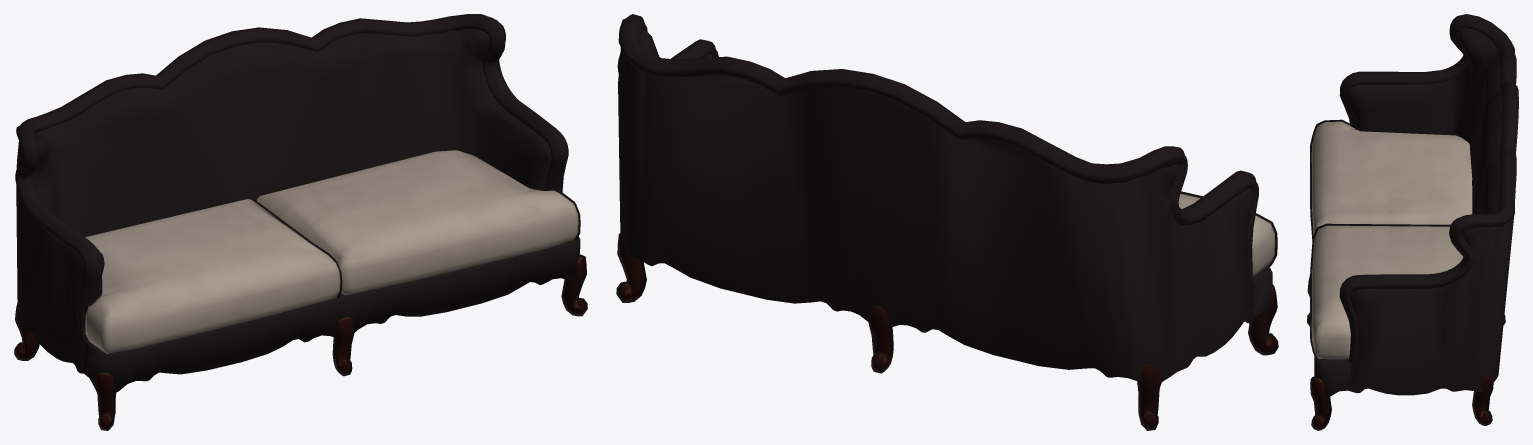
The model's file is SM_Int_Sofa.fbx.
3 renders of one model, left to right at view 1: azimuth 30°, elevation 25°; view 2: azimuth 150°, elevation 25°; view 3: azimuth 270°, elevation 25°, orthographic. The views are drawn at different scales.
Parts seen in each view (by area): view 1: SM_Int_Sofa; view 2: SM_Int_Sofa; view 3: SM_Int_Sofa.
Part boxes in pixels (<box>): SM_Int_Sofa: <box>14,14,587,430</box>; SM_Int_Sofa: <box>616,14,1278,430</box>; SM_Int_Sofa: <box>1307,14,1518,430</box>.
Size of what is drawn, in the model's own units: 2.12 by 1.08 by 0.8931.
